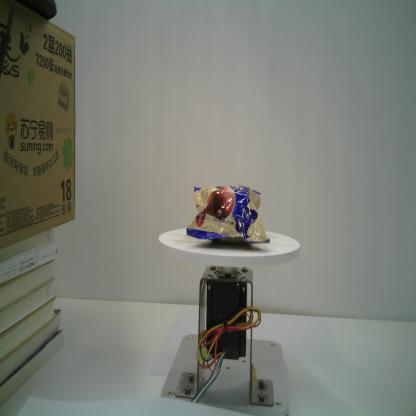Dessert: (187, 185, 270, 244)
